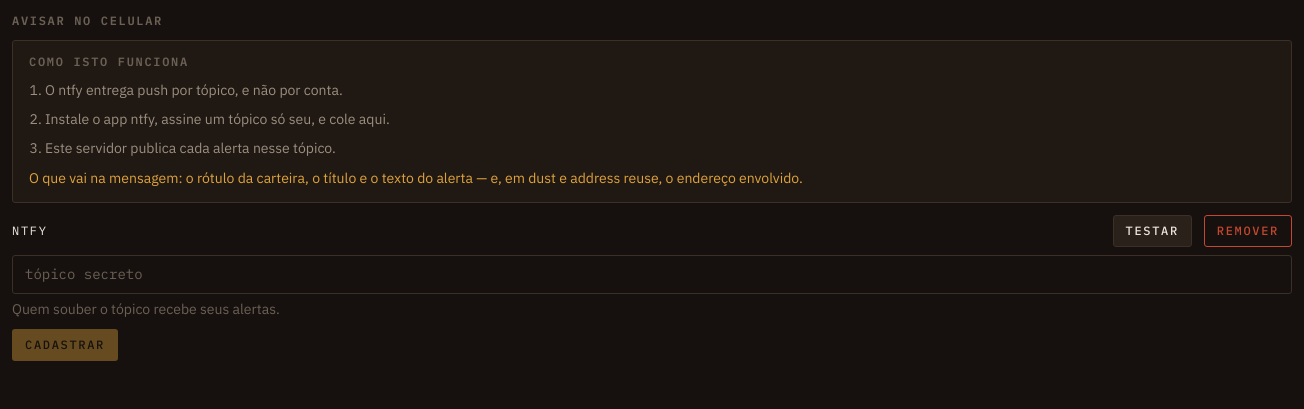
Test: Channels › mostra o motivo quando o teste falha, em vez de silenciar
Click the button "Testar" at (1152, 231), box [1112,215,1192,247]
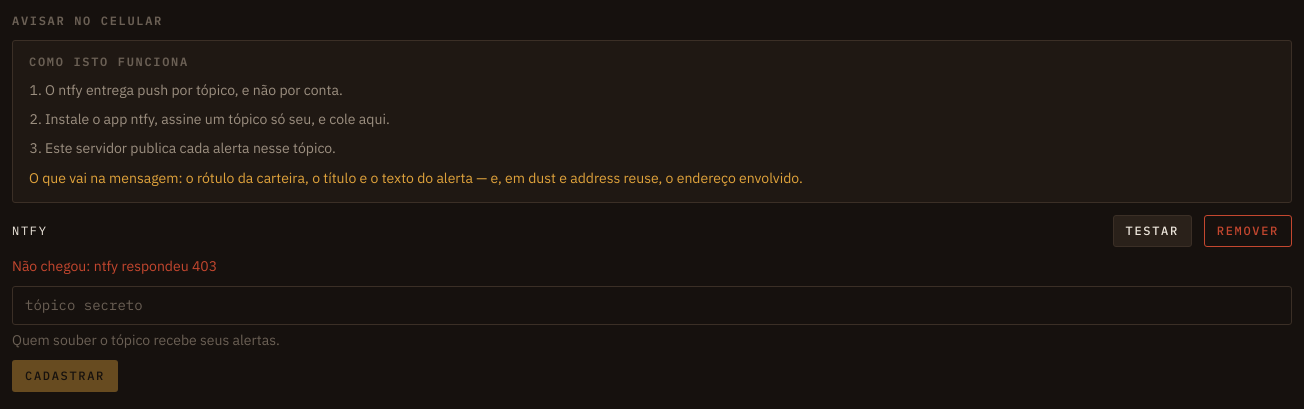
Check: the text "Não chegou: ntfy respondeu 403" is shown, box [12,257,217,275]
